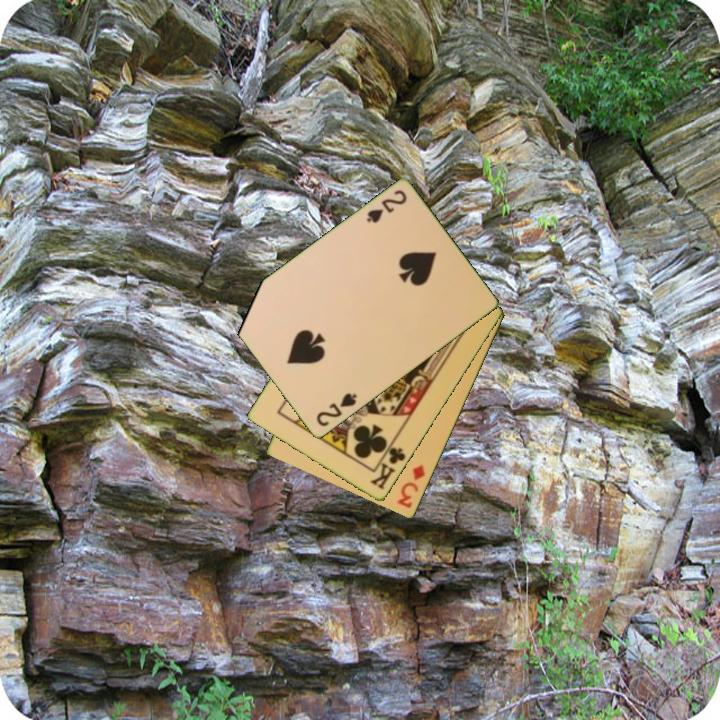2s: (313, 390, 360, 430), (363, 187, 410, 226)
3d: (394, 461, 428, 512)
Kc: (367, 438, 409, 493)
